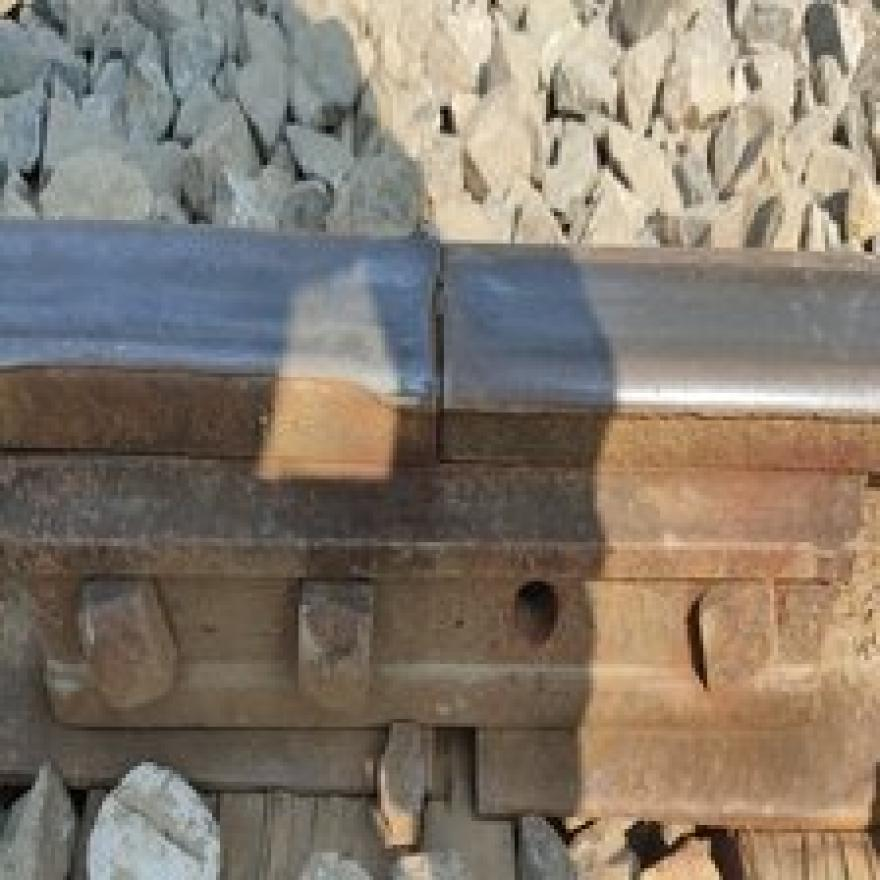railway-gap: (209, 143, 675, 540), (395, 700, 523, 833)
